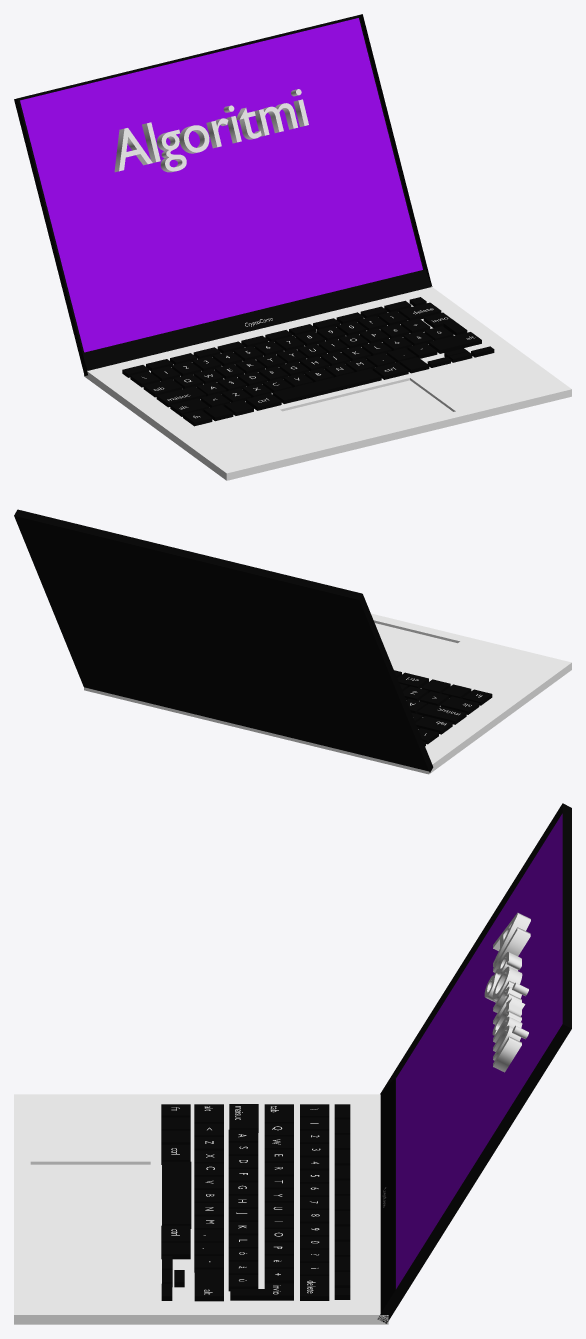
The model's file is algoritmi.glb.
3 views of the same model, one above another, from view 1: azimuth 30°, elevation 25°; view 2: azimuth 150°, elevation 25°; view 3: azimuth 270°, elevation 25° (orthographic). The views are drawn at different scales.
Visible parts, largest first — view 1: Cube.073, Cube, Cube.074, Text.001, Cube.001, Cube.072, Cube.123; view 2: Cube.001, Cube, Cube.065, Cube.064, Cube.066, Cube.071; view 3: Cube, Cube.073, Cube.001, Text.001, Cube.074, Cube.072, Cube.123, Cube.065, Cube.027.
Part boxes in pixels (box(x1,y1,x2,y2)): Cube.073: box(20, 18, 422, 352); Cube: box(84, 286, 571, 480); Cube.074: box(82, 269, 431, 370); Text.001: box(114, 89, 308, 172); Cube.001: box(14, 14, 432, 375); Cube.072: box(272, 368, 381, 403); Cube.123: box(428, 332, 481, 353); Cube.001: box(14, 509, 433, 772); Cube: box(84, 613, 571, 774); Cube.065: box(417, 703, 466, 724); Cube.064: box(440, 696, 479, 714); Cube.066: box(415, 716, 452, 734); Cube.071: box(397, 672, 428, 688); Cube: box(14, 1094, 388, 1324); Cube.073: box(396, 813, 562, 1288); Cube.001: box(377, 803, 571, 1323); Text.001: box(484, 912, 530, 1072); Cube.074: box(380, 1077, 396, 1313); Cube.072: box(162, 1161, 191, 1228); Cube.123: box(194, 1269, 223, 1301); Cube.065: box(229, 1104, 258, 1132); Cube.027: box(300, 1276, 329, 1300).
Bounding box in the file's own units: 6.79 × 4.31 × 7.25.
